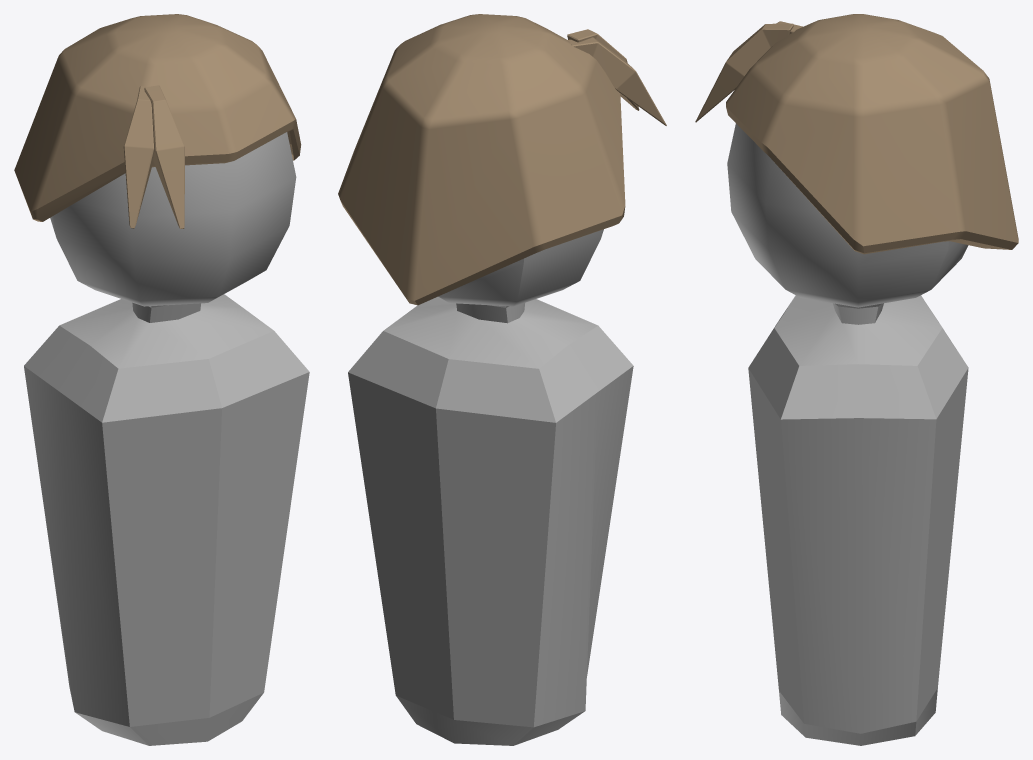
File: Character.fbx
3 renders of one model, left to right at view 1: azimuth 30°, elevation 25°; view 2: azimuth 150°, elevation 25°; view 3: azimuth 270°, elevation 25°, orthographic.
Visible parts, largest first — view 1: Cuerpo, Cabello; view 2: Cuerpo, Cabello; view 3: Cuerpo, Cabello.
Boxes of the visible parts, x1,y1,x2,y2 form: Cuerpo: (24,132,309,745); Cabello: (14,14,301,228); Cuerpo: (348,229,633,745); Cabello: (338,14,666,305); Cuerpo: (727,123,968,745); Cabello: (695,14,1018,254).
Size of the model in its own units: 69.27 by 169 by 72.49.
